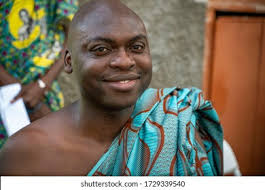person: (62, 1, 154, 111)
